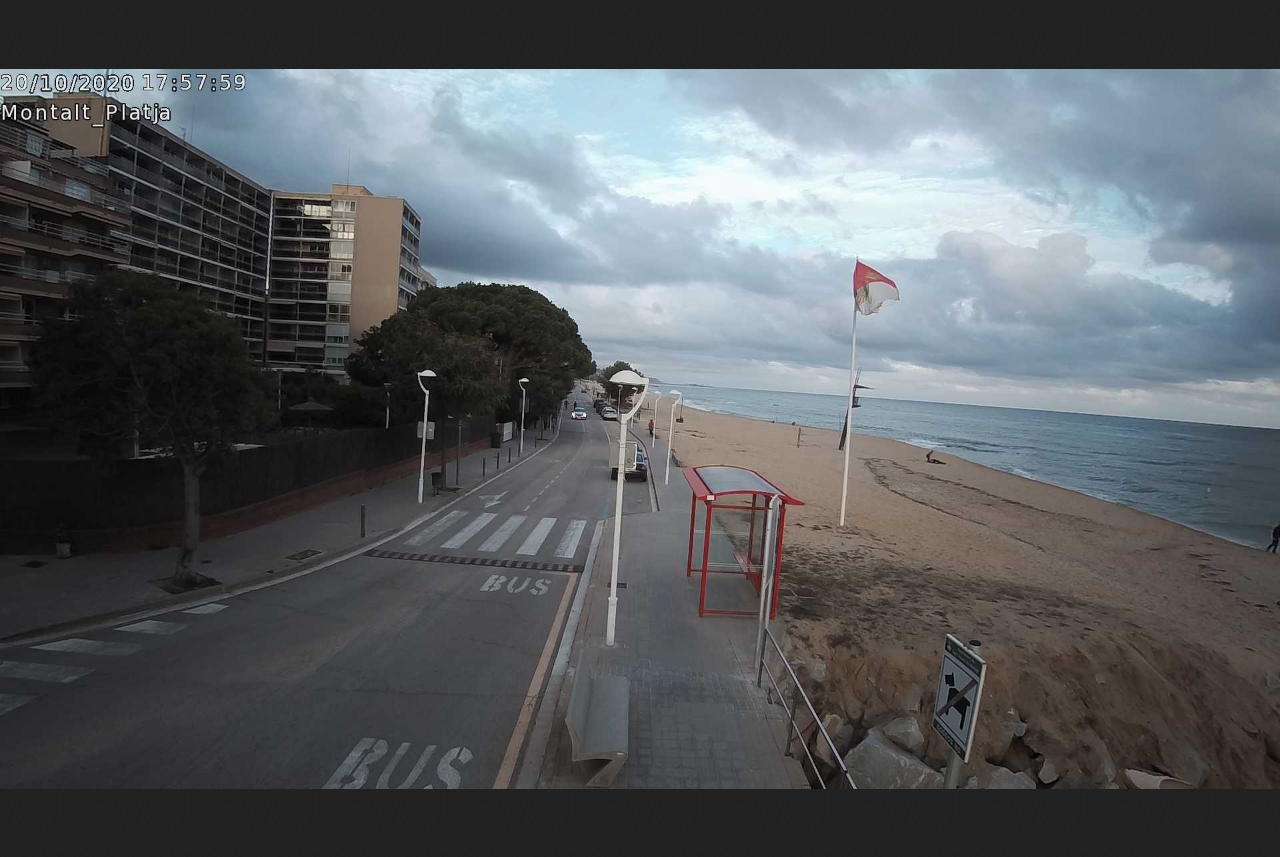yes: (847, 254, 900, 319)
